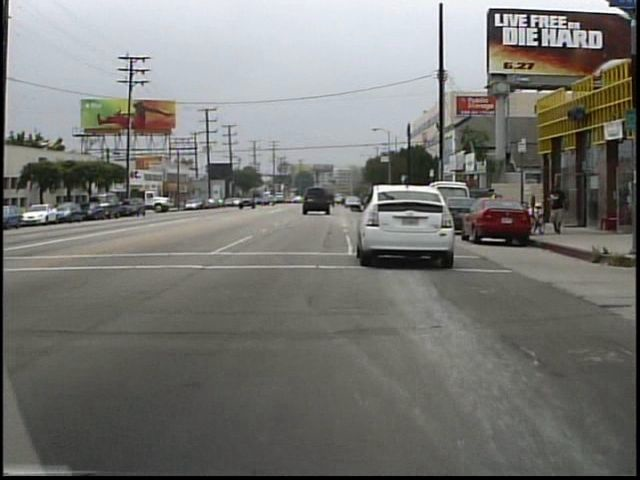person: (546, 176, 570, 239)
